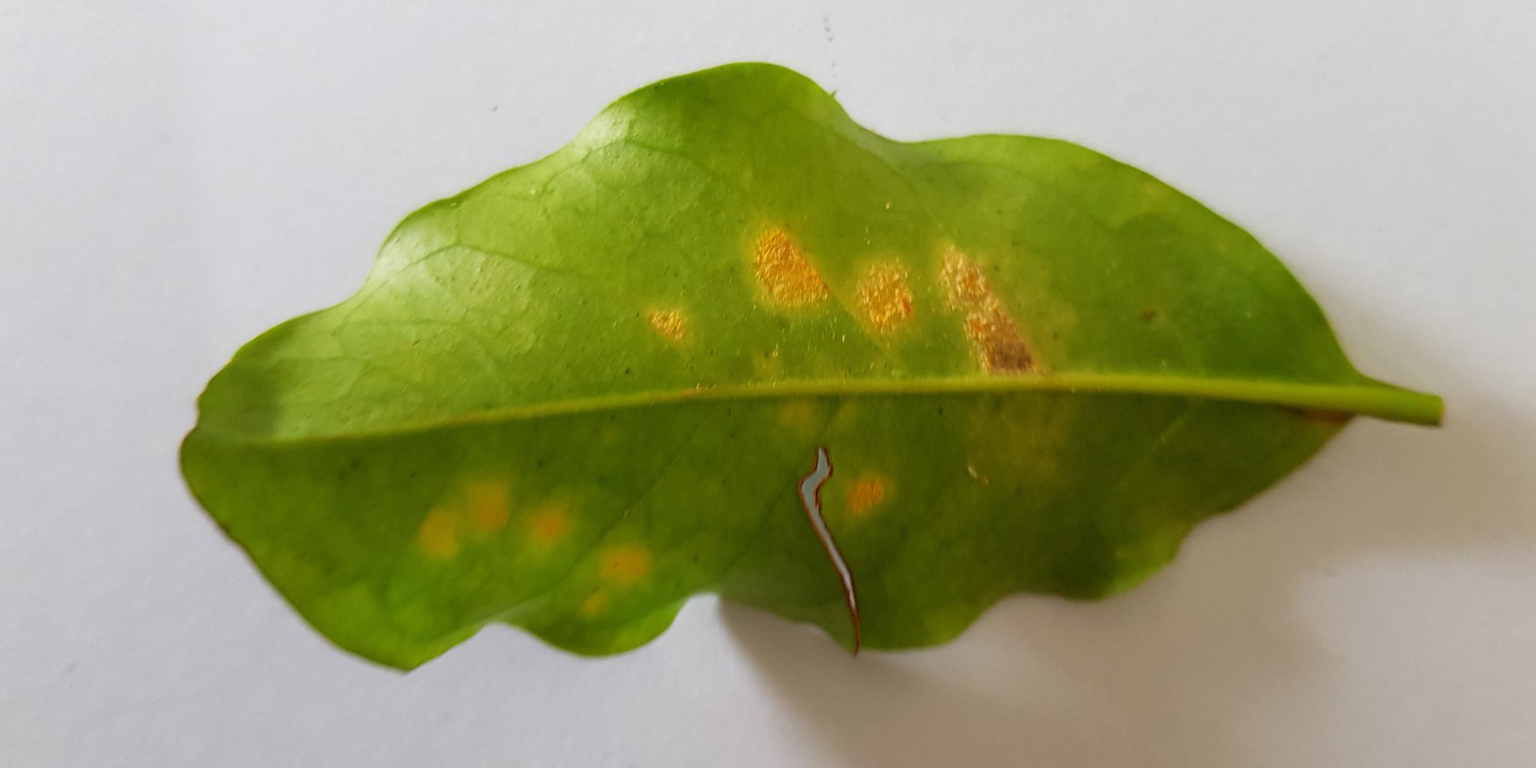Rust: (745, 203, 1047, 389)
